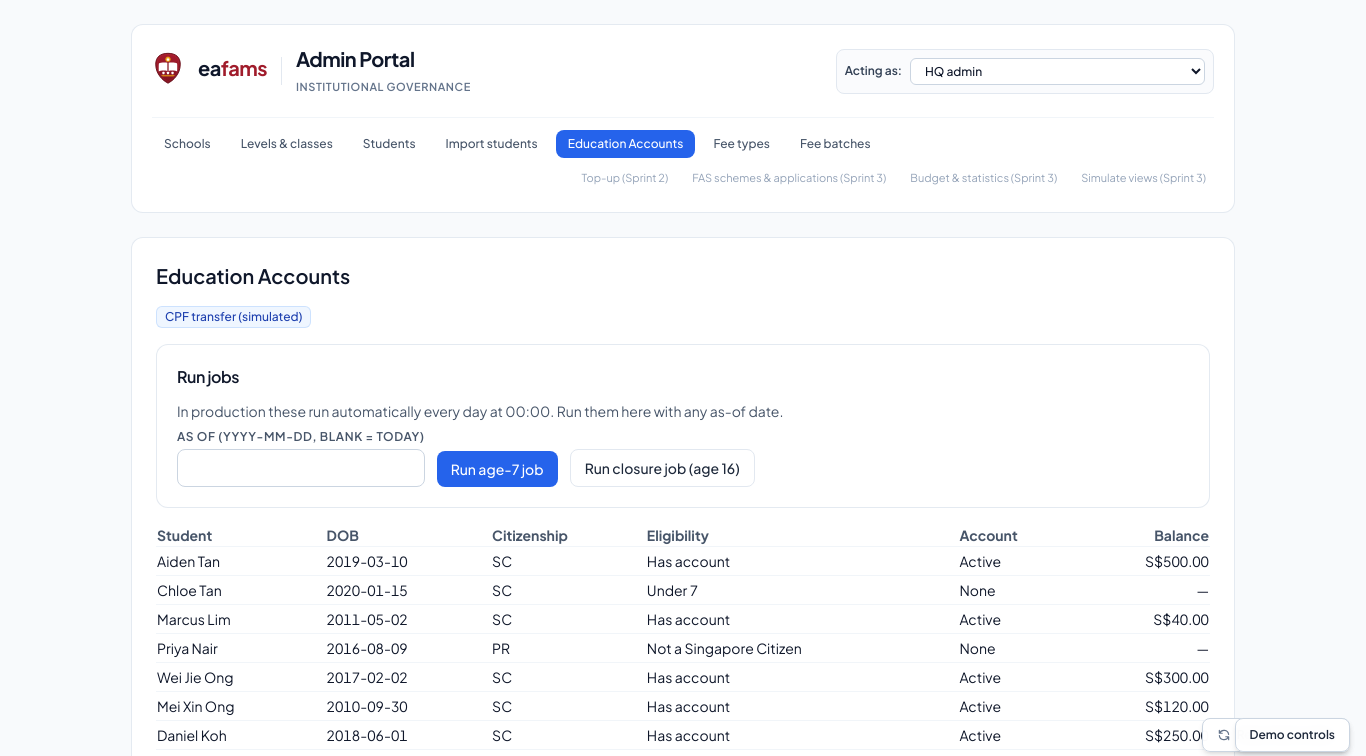
closure job: one closed to CPF, one blocked by a pending transaction
Click the button "Run closure job (age 16)": [662, 468] box [570, 449, 755, 487]
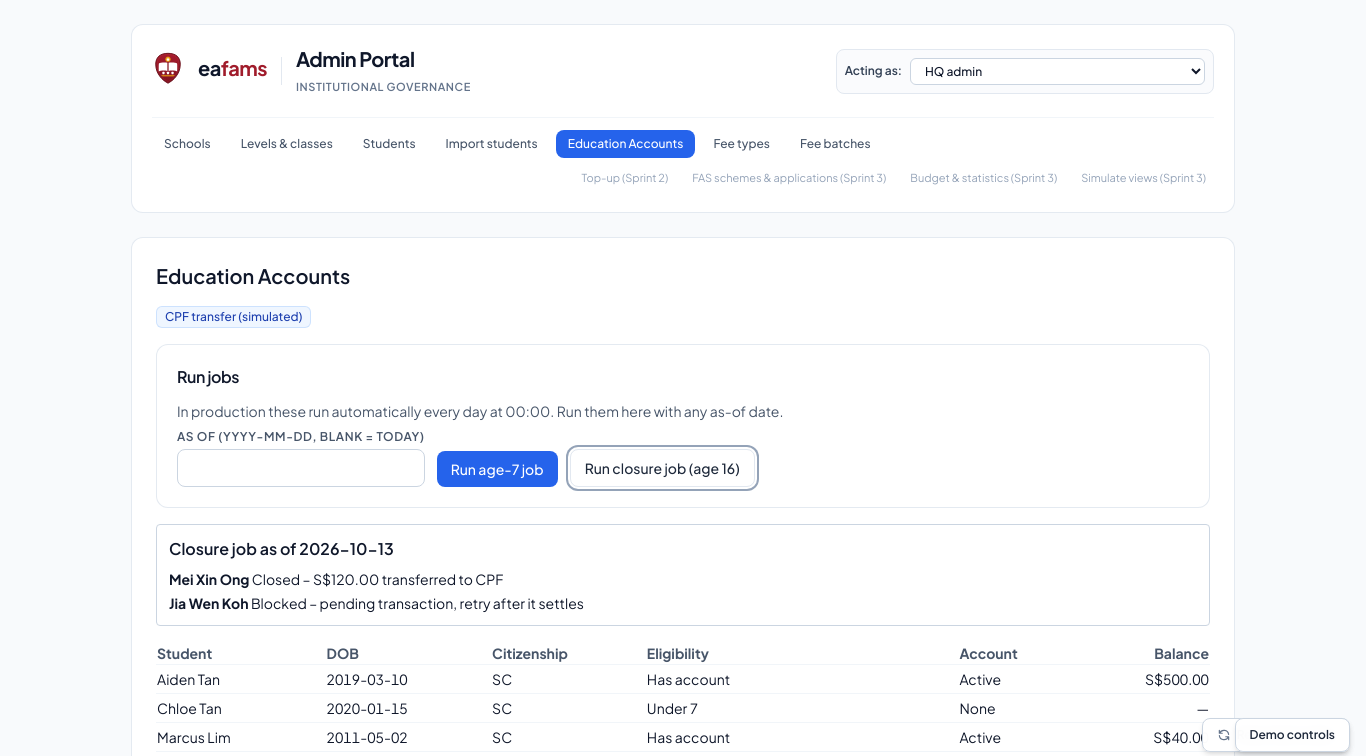
Result: the list item "Mei Xin Ong Closed – S$120.00 transferred to CPF" is shown at [169, 570, 503, 588]
Result: the list item "Jia Wen Koh" shows "pending transaction" at [251, 594, 584, 612]
